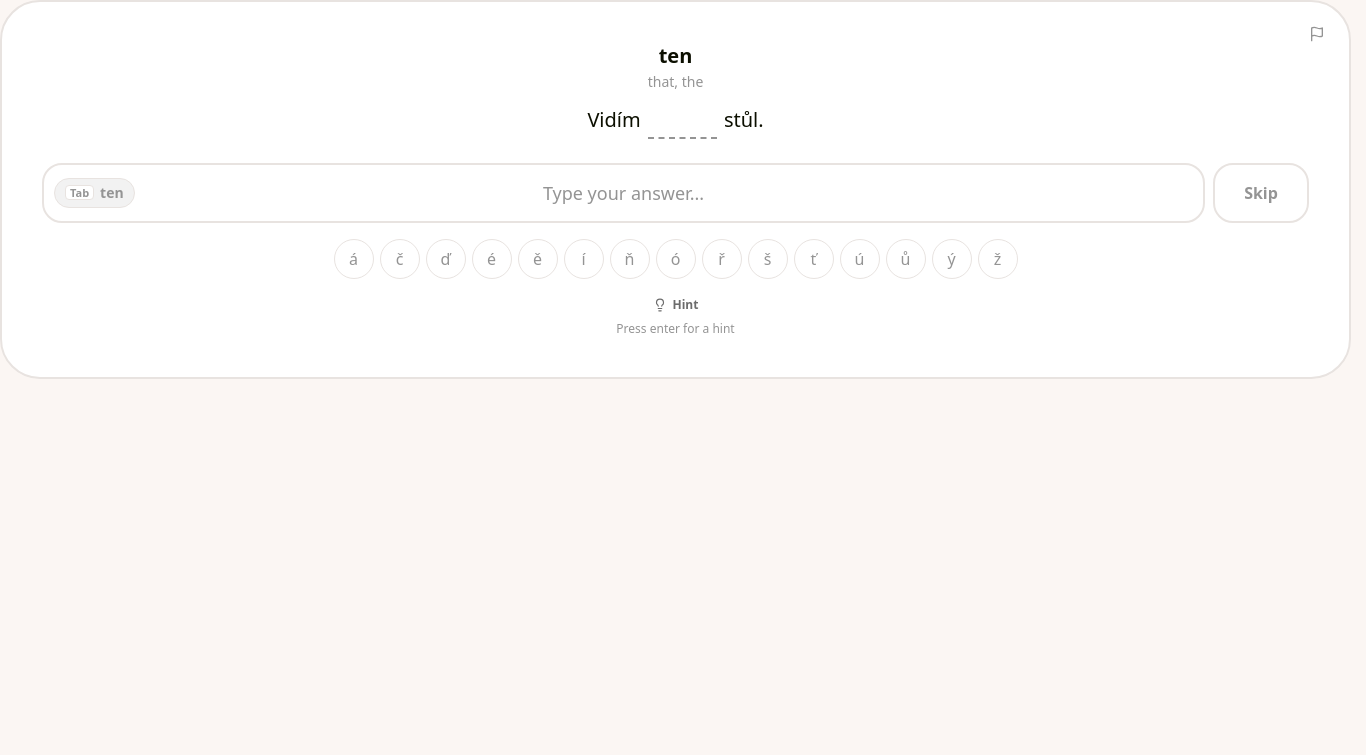
Test: DrillCard adjective feedback › names the gender even when the form is also another case
Type "toho" into the field.
click(624, 192); type("toho")  # box [42,162,1205,222]
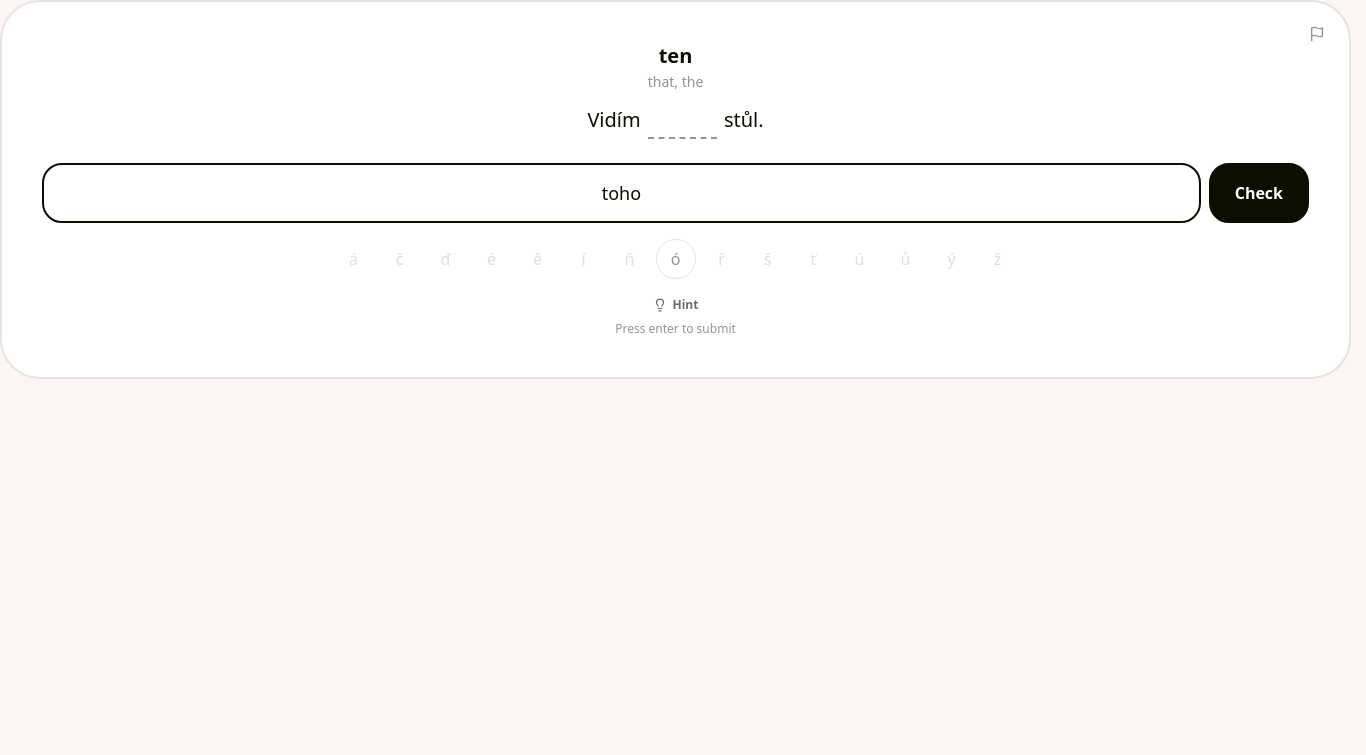
Press Enter
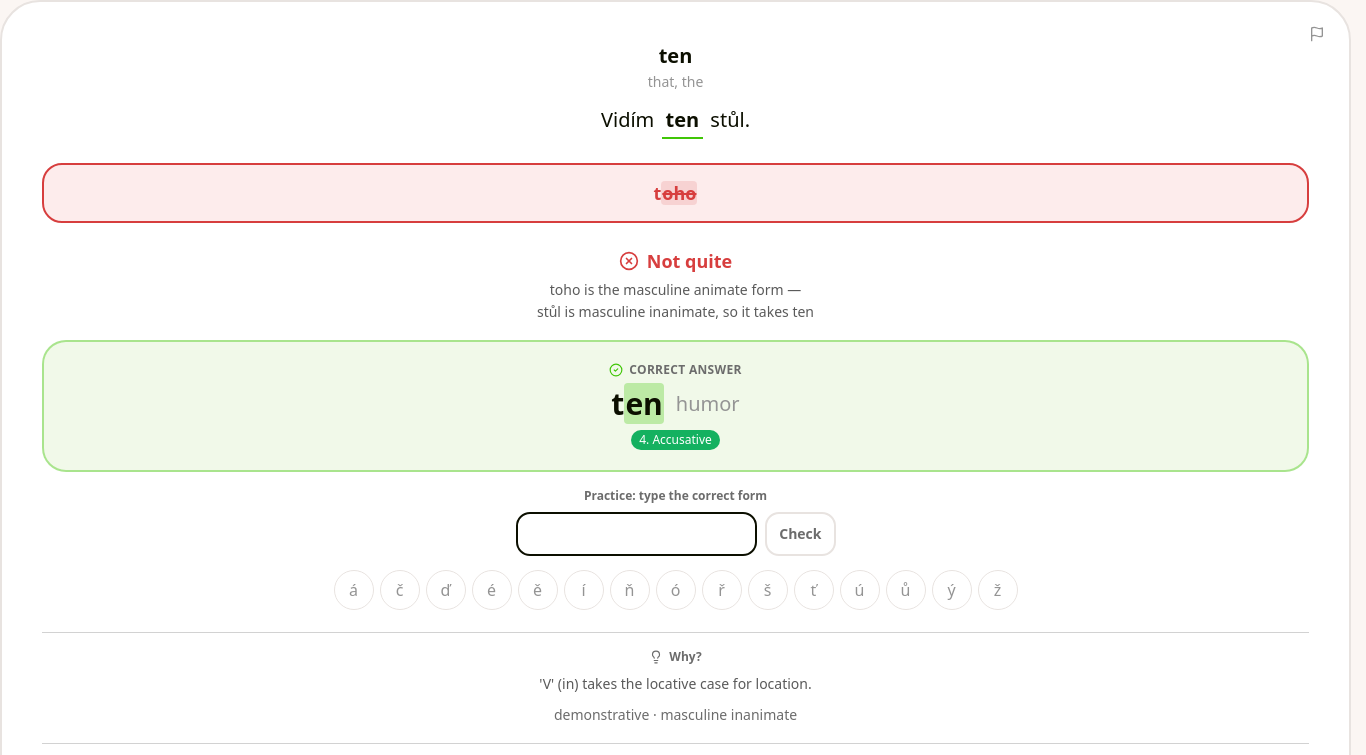
Check: the text "toho is the masculine animate form — stůl is masculine inanimate, so it takes ten" is shown, box [537,280,814,321]
